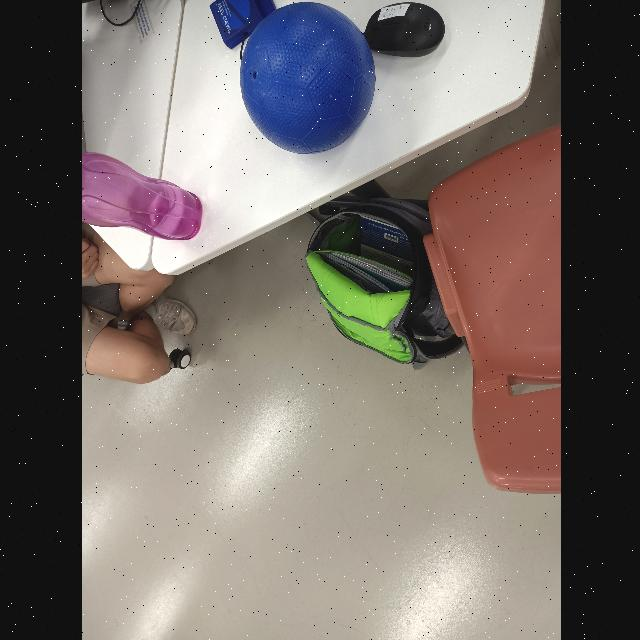B: (235, 4, 372, 160)
